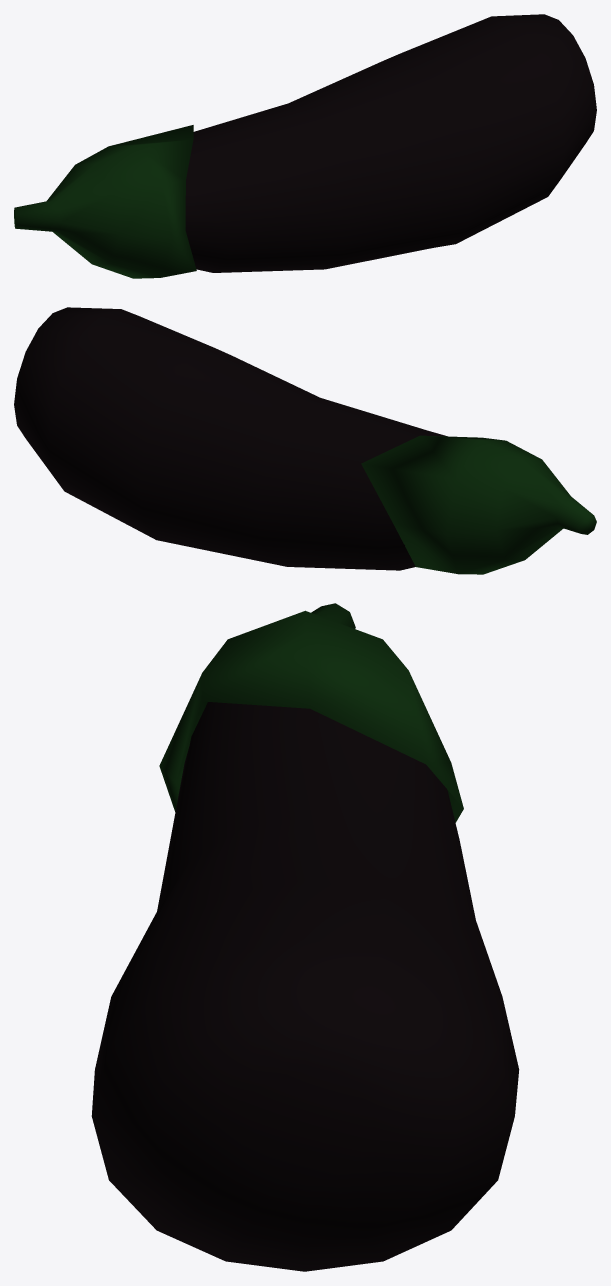
The model's file is aubergine 1.FBX.
The picture shows the model from 3 angles, top to bottom: view 1: azimuth 30°, elevation 25°; view 2: azimuth 150°, elevation 25°; view 3: azimuth 270°, elevation 25°; orthographic projection. The views are drawn at different scales.
Parts seen in each view (by area): view 1: aubergine, feuilleAubergine; view 2: aubergine, feuilleAubergine; view 3: aubergine, feuilleAubergine.
Part boxes in pixels (bbox=[...]): aubergine: bbox=[185, 14, 596, 272]; feuilleAubergine: bbox=[14, 125, 196, 278]; aubergine: bbox=[14, 307, 447, 570]; feuilleAubergine: bbox=[361, 435, 596, 574]; aubergine: bbox=[91, 702, 519, 1271]; feuilleAubergine: bbox=[159, 603, 463, 822].
Bounding box in the file's own units: 18.65 × 6.13 × 6.22.
